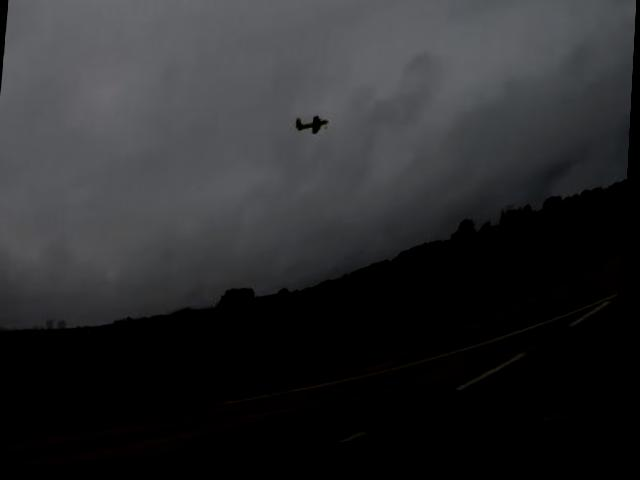uav: (290, 115, 335, 148)
